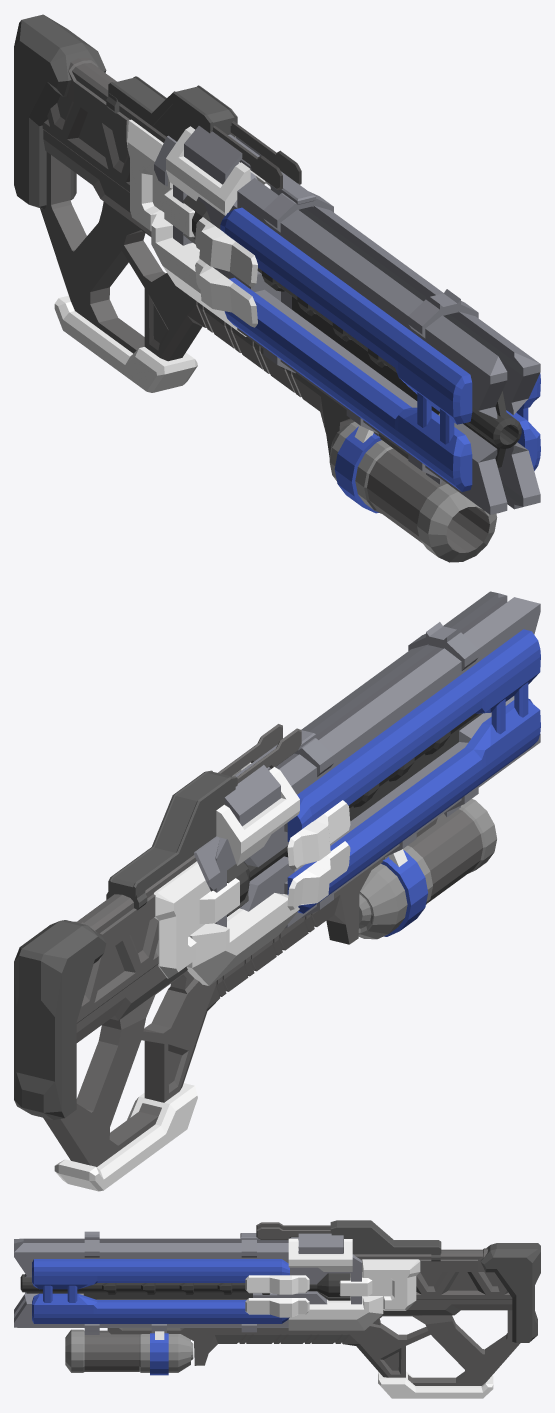
The model's file is Soilder76 rifle.fbx.
3 views of the same model, one above another, from view 1: azimuth 30°, elevation 25°; view 2: azimuth 150°, elevation 25°; view 3: azimuth 270°, elevation 25° (orthographic). The views are drawn at different scales.
Parts seen in each view (by area): view 1: Blue, Front, Grip, RocketLauncher, Stock, Back, Sights, WhiteFronht, Grip2, WhiteBack, WhiteTop, Front3 (+9 smaller); view 2: Blue, Grip, Front, Stock, Sights, RocketLauncher, Back, WhiteBack, WhiteLow, Grip2, WhiteFronht, WhiteTop (+8 smaller); view 3: Blue, Grip, Front, Back, RocketLauncher, Stock, Sights, WhiteBack, WhiteLow, WhiteFronht, Barrel, Grip2 (+8 smaller).
Part boxes in pixels (x1,y1,x2,y2): Blue: [220, 207, 540, 491]; Front: [237, 178, 540, 514]; Grip: [40, 152, 408, 459]; RocketLauncher: [329, 421, 497, 562]; Stock: [14, 14, 106, 209]; Back: [42, 58, 151, 235]; Sights: [106, 76, 301, 190]; WhiteFronht: [195, 217, 257, 327]; Grip2: [54, 295, 197, 392]; WhiteBack: [126, 119, 194, 237]; WhiteTop: [166, 126, 270, 215]; Front3: [263, 191, 478, 484]; Blue: [287, 629, 540, 913]; Grip: [43, 818, 437, 1166]; Front: [275, 591, 540, 928]; Stock: [14, 920, 106, 1120]; Sights: [106, 724, 301, 910]; RocketLauncher: [358, 799, 496, 939]; Back: [74, 894, 187, 1042]; WhiteBack: [154, 861, 239, 978]; WhiteLow: [186, 893, 299, 985]; Grip2: [54, 1083, 197, 1191]; WhiteFronht: [287, 800, 350, 910]; WhiteTop: [216, 763, 299, 865]; Blue: [32, 1259, 289, 1323]; Grip: [107, 1310, 520, 1385]; Front: [14, 1238, 288, 1327]; Back: [361, 1248, 512, 1315]; RocketLauncher: [65, 1329, 193, 1372]; Stock: [480, 1243, 540, 1342]; Sights: [256, 1220, 441, 1261]; WhiteBack: [339, 1259, 420, 1310]; WhiteLow: [288, 1296, 383, 1330]; WhiteFronht: [245, 1275, 309, 1317]; Barrel: [20, 1273, 350, 1300]; Grip2: [378, 1371, 493, 1398].
Size of the model in its own units: 14.33 by 35.85 by 100.
